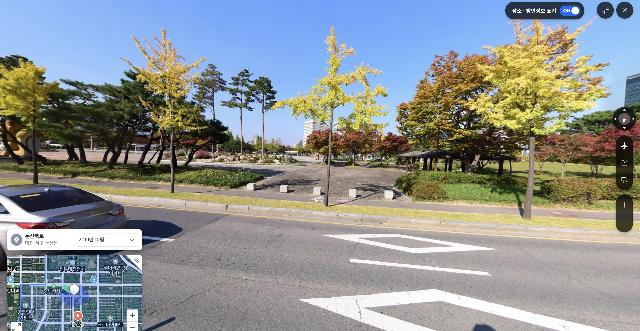ginkgo: (456, 17, 612, 220), (270, 26, 394, 207), (118, 27, 215, 193), (0, 57, 65, 185)
other: (146, 109, 228, 169), (189, 64, 228, 155), (220, 68, 256, 157), (584, 132, 640, 180), (246, 76, 278, 157), (557, 134, 596, 177), (370, 132, 412, 168), (532, 131, 563, 177), (306, 129, 329, 166)
